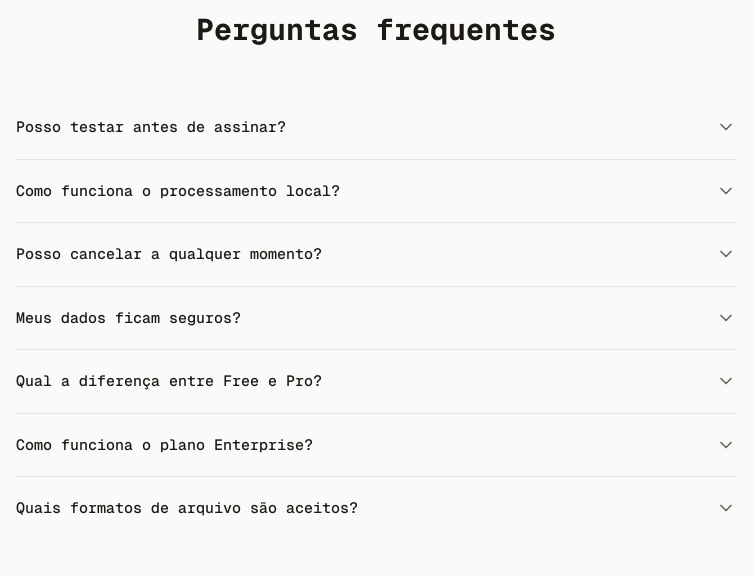
Test: PricingFAQ › aria-expanded state › clicking a button sets aria-expanded to true
This screenshot has width=753, height=576.
Click the button "Posso testar antes de assinar?": {"x": 151, "y": 126} [16,96,736,158]
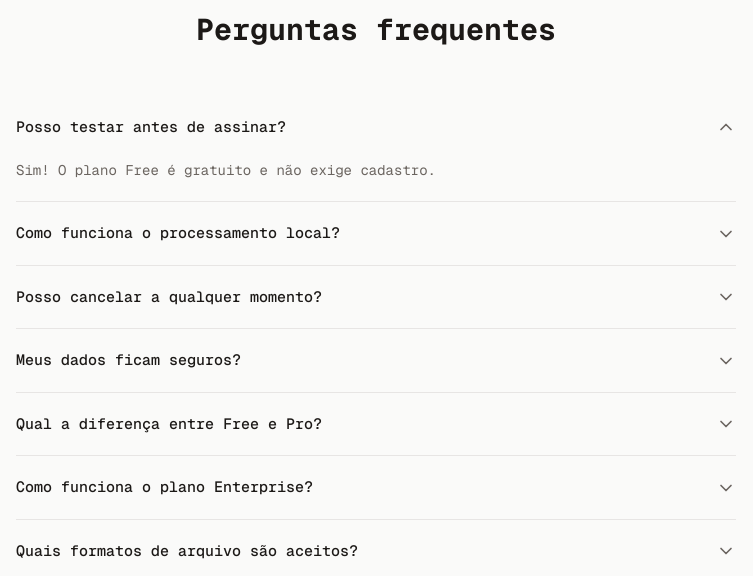
Result: the button "Posso testar antes de assinar?" is expanded at [16,96,736,158]
